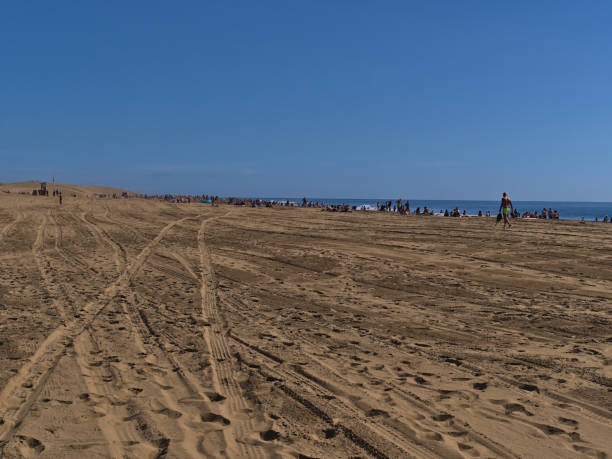vehicle_track: (0, 216, 195, 450), (228, 333, 438, 457), (197, 217, 265, 457), (113, 288, 206, 456), (72, 317, 169, 456), (366, 332, 525, 398), (120, 292, 212, 400), (369, 334, 523, 394), (228, 331, 337, 397), (32, 211, 67, 320), (72, 323, 120, 402), (506, 354, 611, 389), (73, 325, 119, 403), (220, 248, 337, 276), (453, 415, 518, 457), (225, 221, 354, 242), (79, 212, 126, 269), (48, 212, 90, 268), (157, 248, 199, 281), (554, 366, 609, 387), (394, 342, 448, 363), (148, 260, 193, 282), (0, 212, 23, 240)
